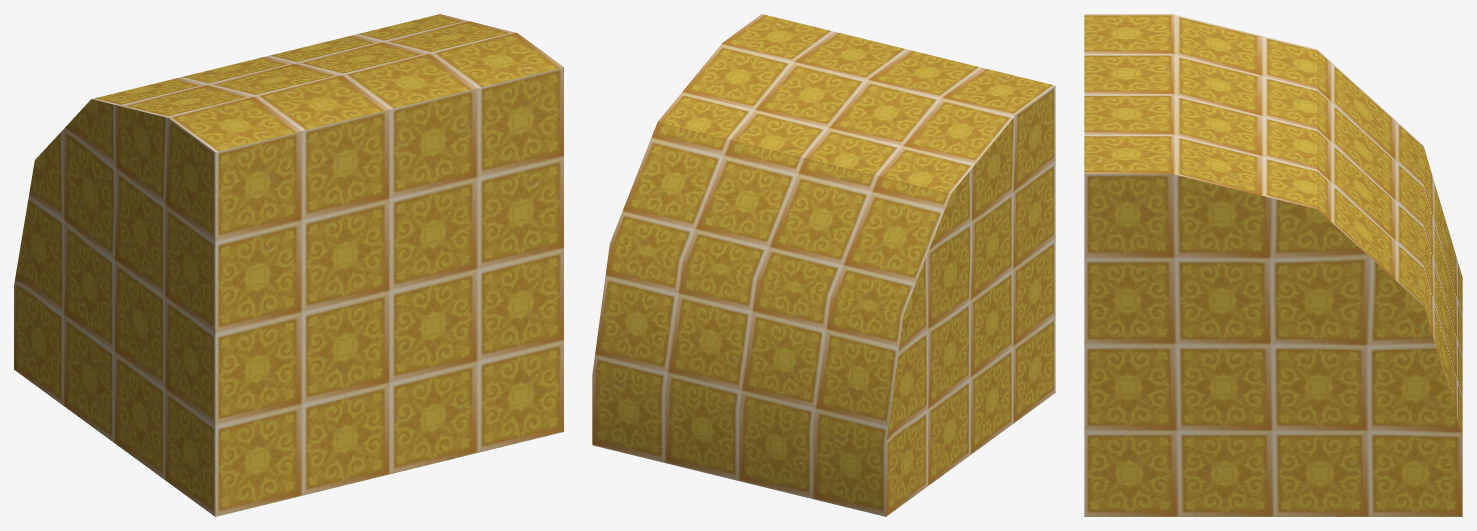
Rendered from POL0410008.fbx.
3 renders of one model, left to right at view 1: azimuth 30°, elevation 25°; view 2: azimuth 150°, elevation 25°; view 3: azimuth 270°, elevation 25°, orthographic. The views are drawn at different scales.
Visible parts, largest first — view 1: smPOL0410008; view 2: smPOL0410008; view 3: smPOL0410008.
Boxes of the visible parts, x1,y1,x2,y2 form: smPOL0410008: [14, 14, 563, 516]; smPOL0410008: [592, 14, 1055, 516]; smPOL0410008: [1084, 14, 1462, 516].
Size of the model in its own units: 161 by 161 by 161.
Materials: 1 (1 with a texture image).
